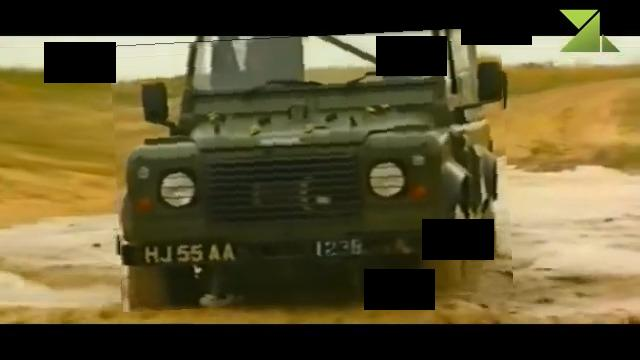MIL_HMMWV: (113, 30, 511, 307)
